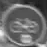bike lane: (2, 2, 43, 41)
